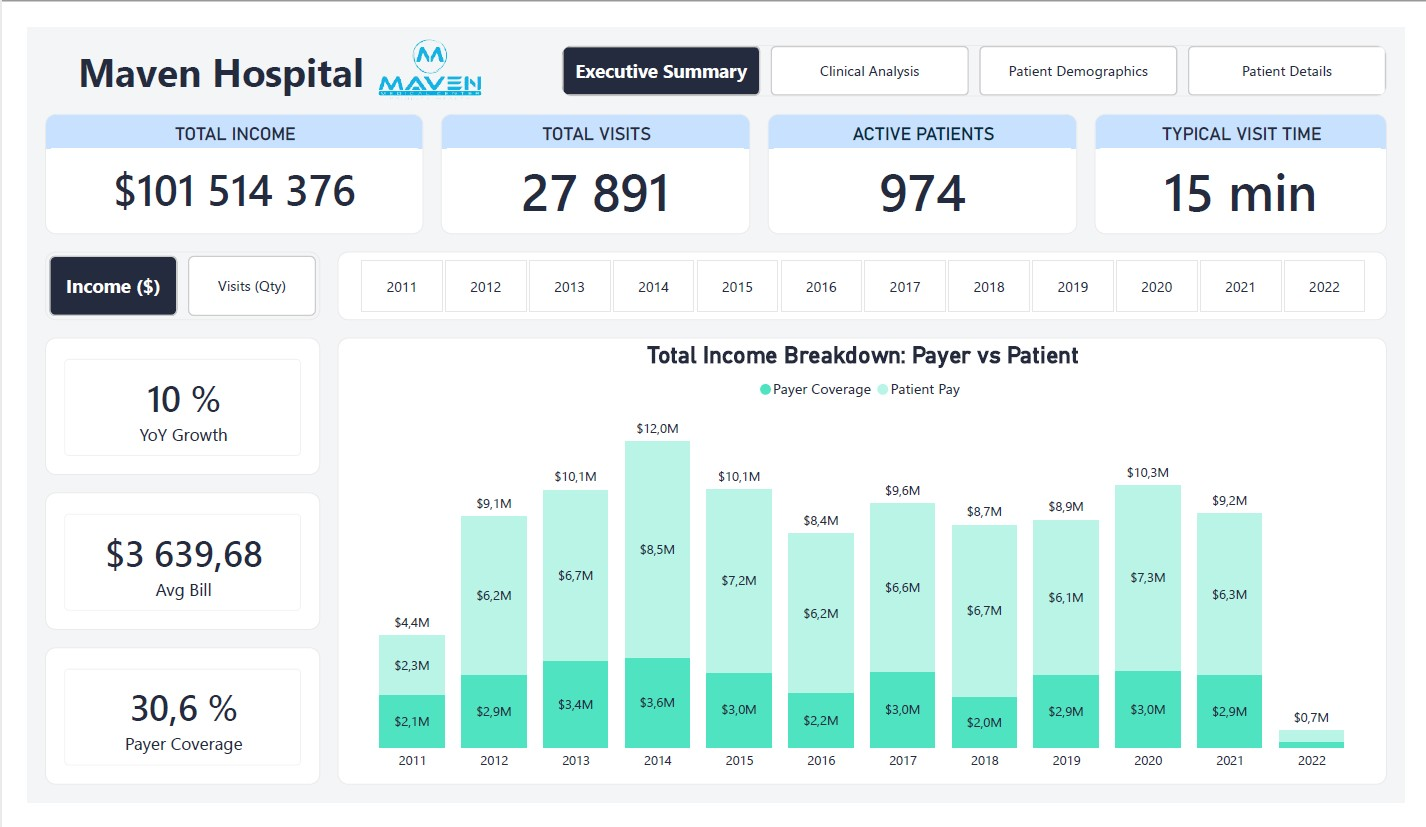

What the dashboard file says about the page in this screenshot:
{"tool":"powerbi","page":{"name":"Executive Summary","canvas":[1280,720],"ordinal":0},"visuals":[{"type":"cardVisual","title":"TOTAL INCOME","fields":{"Data":["_measures.VisitsSumTotalClaimCost"]},"box":[16,80,352,112],"z":0,"group":"g1"},{"type":"cardVisual","title":"TOTAL INCOME","fields":{"Data":["_measures.%PayerShareCheck"]},"box":[16,576,256,128],"z":0,"group":"g2"},{"type":"pageNavigator","box":[496,16,768,48],"z":1000},{"type":"cardVisual","title":"TOTAL VISITS","fields":{"Data":["_measures.VisitsCountVisits"]},"box":[384,80,288,112],"z":1000,"group":"g1"},{"type":"cardVisual","title":"TOTAL INCOME","fields":{"Data":["_measures.AVGCheckForVisit"]},"box":[16,432,256,128],"z":1000,"group":"g2"},{"type":"group","id":"g1","title":"Main_KPI","box":[16,80,1248,112],"z":2000},{"type":"cardVisual","title":"ACTIVE PATIENTS","fields":{"Data":["_measures.tset"]},"box":[688,80,288,112],"z":2000,"group":"g1"},{"type":"cardVisual","title":"TOTAL INCOME","fields":{"Data":["_measures.%IncomeGrowthYoY"]},"box":[16,288,256,128],"z":2000,"group":"g2"},{"type":"cardVisual","title":"TYPICAL VISIT TIME","fields":{"Data":["_measures.VisualForTime"]},"box":[992,80,272,112],"z":3000,"group":"g1"},{"type":"columnChart","title":"Total Income Breakdown: Payer vs Patient","fields":{"Y":["_measures.SumPayerCoverage","_measures.PatientPay"],"Category":["DimCalendarDAX.YearText"]},"box":[288,288,976,416],"z":4000},{"type":"slicer","title":"Slicer_Years","fields":{"Values":["DimCalendarDAX.Year"]},"box":[288,208,976,64],"z":5000},{"type":"bookmarkNavigator","box":[16,208,256,64],"z":6000},{"type":"group","id":"g2","title":"KPI_Money","box":[16,288,256,416],"z":7000},{"type":"textbox","title":"Maven Hospital","box":[47,16,272,48],"z":9000},{"type":"image","box":[326,0,96,80],"z":9500}]}

Visuals, with their boxes on the page's 1280x720 design canvas (x1, y1, x2, y2). These are canvas units, not pixel positions in the 1426x827 screenshot, which may show the page scaled, cropped or inside an application window:
"TOTAL INCOME" cardVisual: (16, 80, 368, 192)
"TOTAL INCOME" cardVisual: (16, 576, 272, 704)
pageNavigator: (496, 16, 1264, 64)
"TOTAL VISITS" cardVisual: (384, 80, 672, 192)
"TOTAL INCOME" cardVisual: (16, 432, 272, 560)
"Main_KPI" group: (16, 80, 1264, 192)
"ACTIVE PATIENTS" cardVisual: (688, 80, 976, 192)
"TOTAL INCOME" cardVisual: (16, 288, 272, 416)
"TYPICAL VISIT TIME" cardVisual: (992, 80, 1264, 192)
"Total Income Breakdown: Payer vs Patient" columnChart: (288, 288, 1264, 704)
"Slicer_Years" slicer: (288, 208, 1264, 272)
bookmarkNavigator: (16, 208, 272, 272)
"KPI_Money" group: (16, 288, 272, 704)
"Maven Hospital" textbox: (47, 16, 319, 64)
image: (326, 0, 422, 80)
